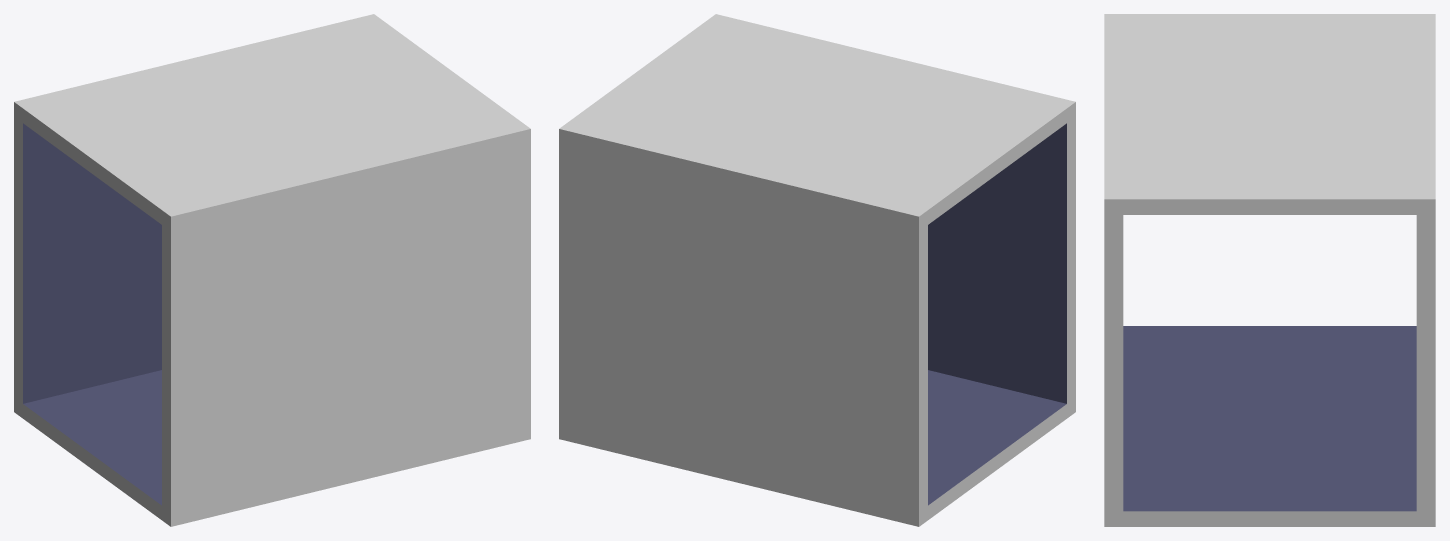
The model's file is Door.fbx.
3 renders of one model, left to right at view 1: azimuth 30°, elevation 25°; view 2: azimuth 150°, elevation 25°; view 3: azimuth 270°, elevation 25°, orthographic. The views are drawn at different scales.
Visible parts, largest first — view 1: white Mesh (1), black Mesh (1); view 2: white Mesh (1), black Mesh (1); view 3: white Mesh (1), black Mesh (1).
Boxes of the visible parts, box(x1,y1,x2,y2) form: white Mesh (1): box(14, 14, 530, 526); black Mesh (1): box(23, 123, 161, 505); white Mesh (1): box(559, 14, 1075, 526); black Mesh (1): box(928, 123, 1066, 505); white Mesh (1): box(1104, 14, 1435, 526); black Mesh (1): box(1123, 326, 1416, 511).
Size of the model in its own units: 11.59 by 9.55 by 8.75.
